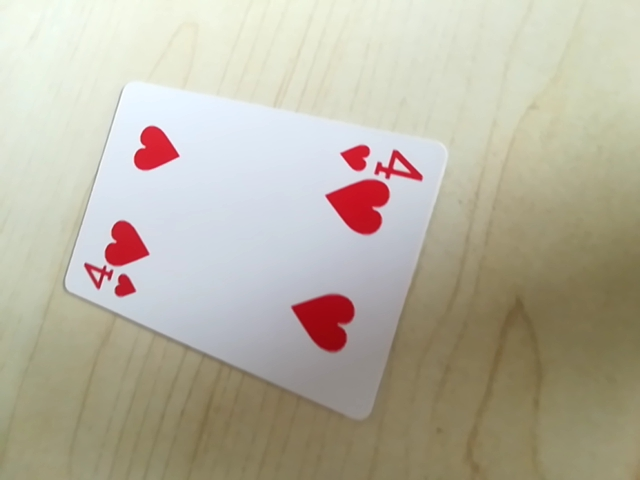hx 4: (335, 138, 430, 181), (76, 261, 147, 304)
